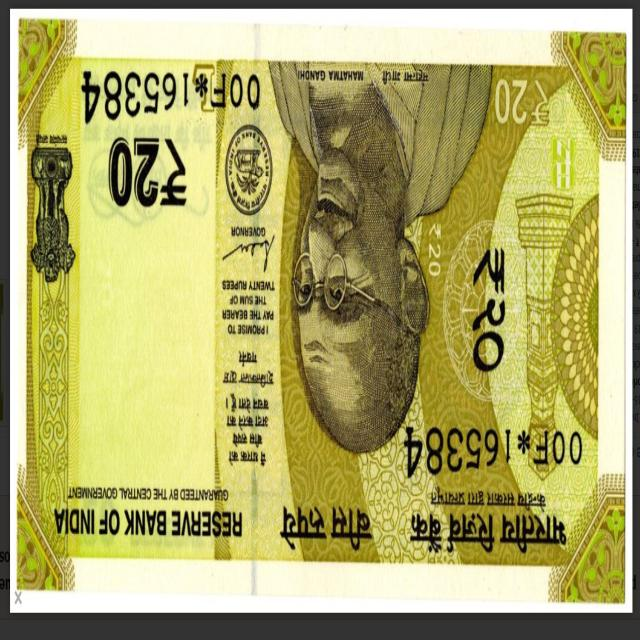20IndianRupees: (19, 14, 626, 605), (212, 11, 632, 609), (18, 14, 388, 607)
